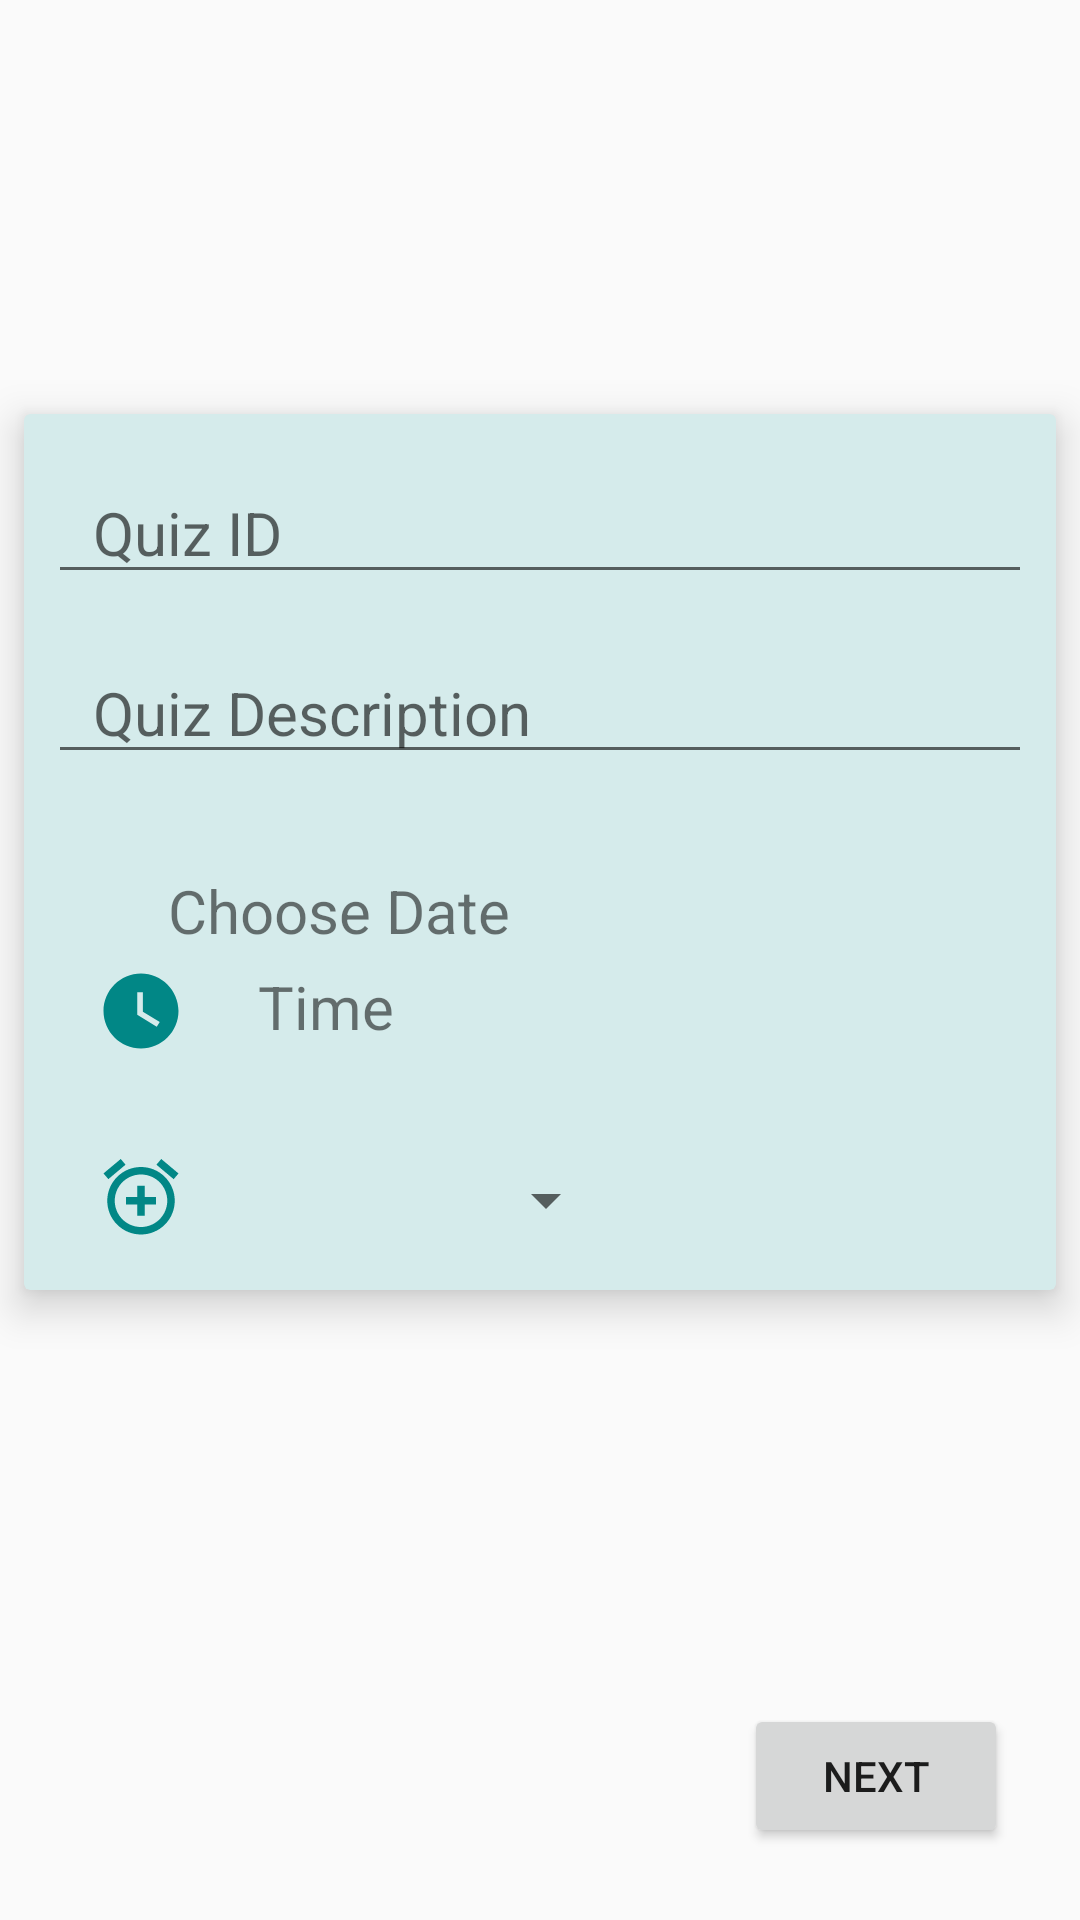

Icon bounding boxes for this 1080*1920 phone screenshot, format [x1,y1,x2,y2]:
alarm add: [103,1159,179,1235]
watch: [103,973,179,1049]
